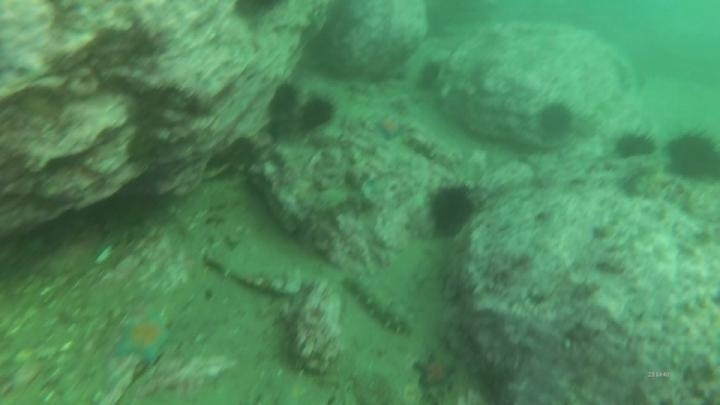echinus: (663, 127, 719, 184), (425, 182, 478, 238), (535, 100, 576, 141), (612, 129, 657, 162), (297, 95, 337, 132), (267, 81, 302, 120), (414, 59, 445, 94)
holothurian: (343, 274, 417, 339), (402, 131, 466, 170)
starfish: (112, 308, 175, 368), (412, 347, 460, 392), (371, 111, 410, 143)
